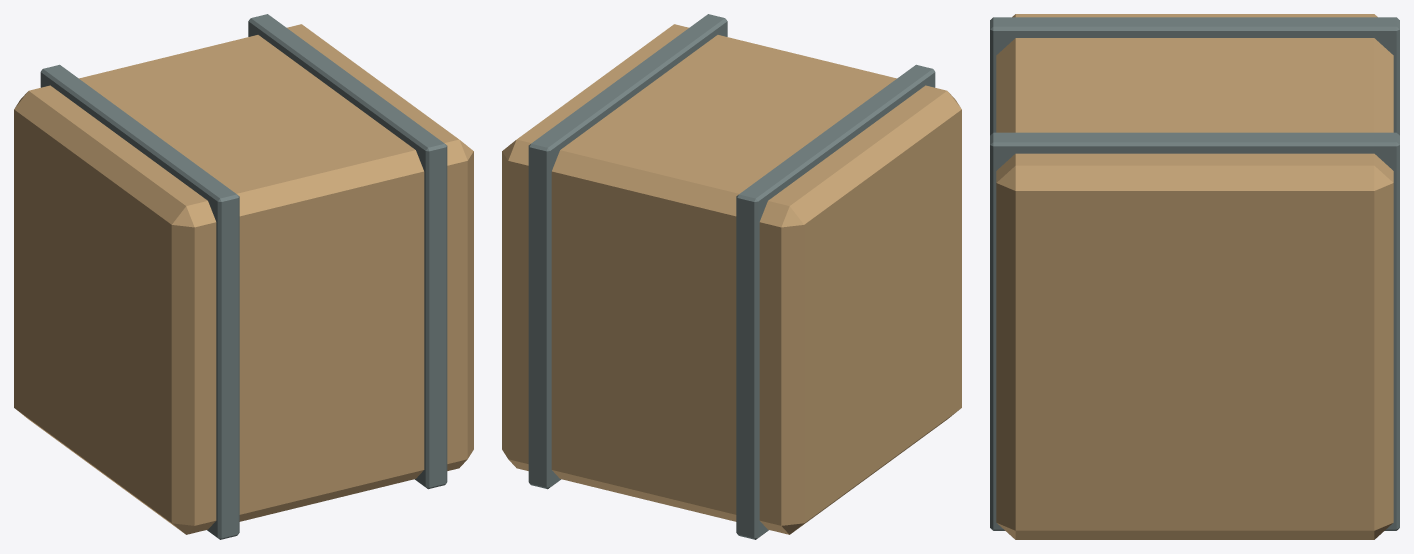
Rendered from crate.glb.
3 renders of one model, left to right at view 1: azimuth 30°, elevation 25°; view 2: azimuth 150°, elevation 25°; view 3: azimuth 270°, elevation 25°, orthographic. The views are drawn at different scales.
Visible parts, largest first — view 1: CrateBody, Band, Band.001; view 2: CrateBody, Band, Band.001; view 3: CrateBody, Band.001, Band.
Boxes of the visible parts, x1=… form: CrateBody: x1=14, y1=24, x2=473, y2=534; Band: x1=40, y1=64, x2=239, y2=539; Band.001: x1=248, y1=14, x2=447, y2=489; CrateBody: x1=502, y1=24, x2=961, y2=534; Band: x1=736, y1=64, x2=935, y2=539; Band.001: x1=528, y1=14, x2=727, y2=489; CrateBody: x1=996, y1=14, x2=1393, y2=539; Band.001: x1=990, y1=132, x2=1399, y2=530; Band: x1=990, y1=17, x2=1399, y2=135.
Bounding box in the file's own units: 1.25 × 1.35 × 1.29.
